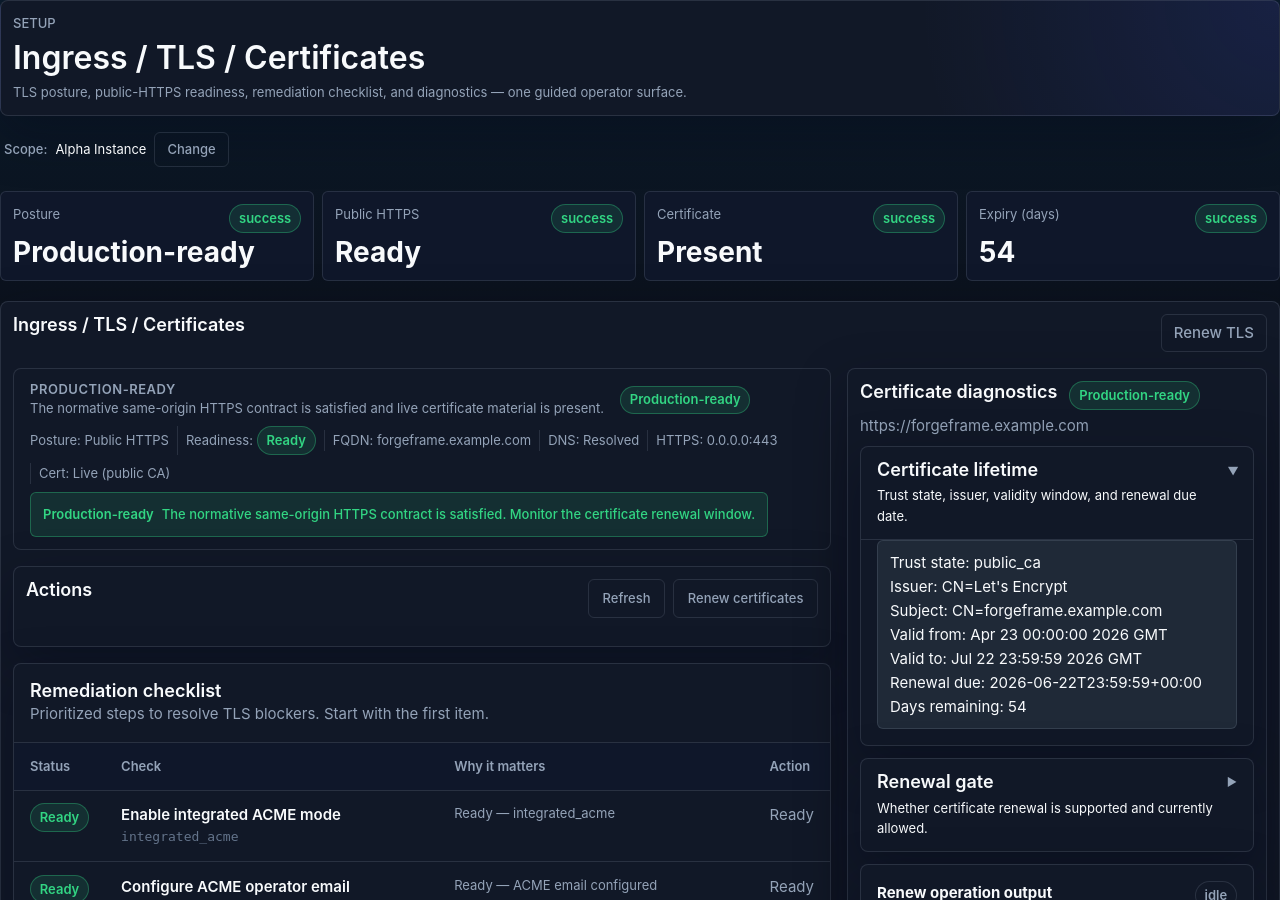
Test case: ingress and tls page › runs renew when the ingress contract allows it and shows the operation result
Click the button "Renew certificates" at coordinates (746, 598), box [673,579,818,618]
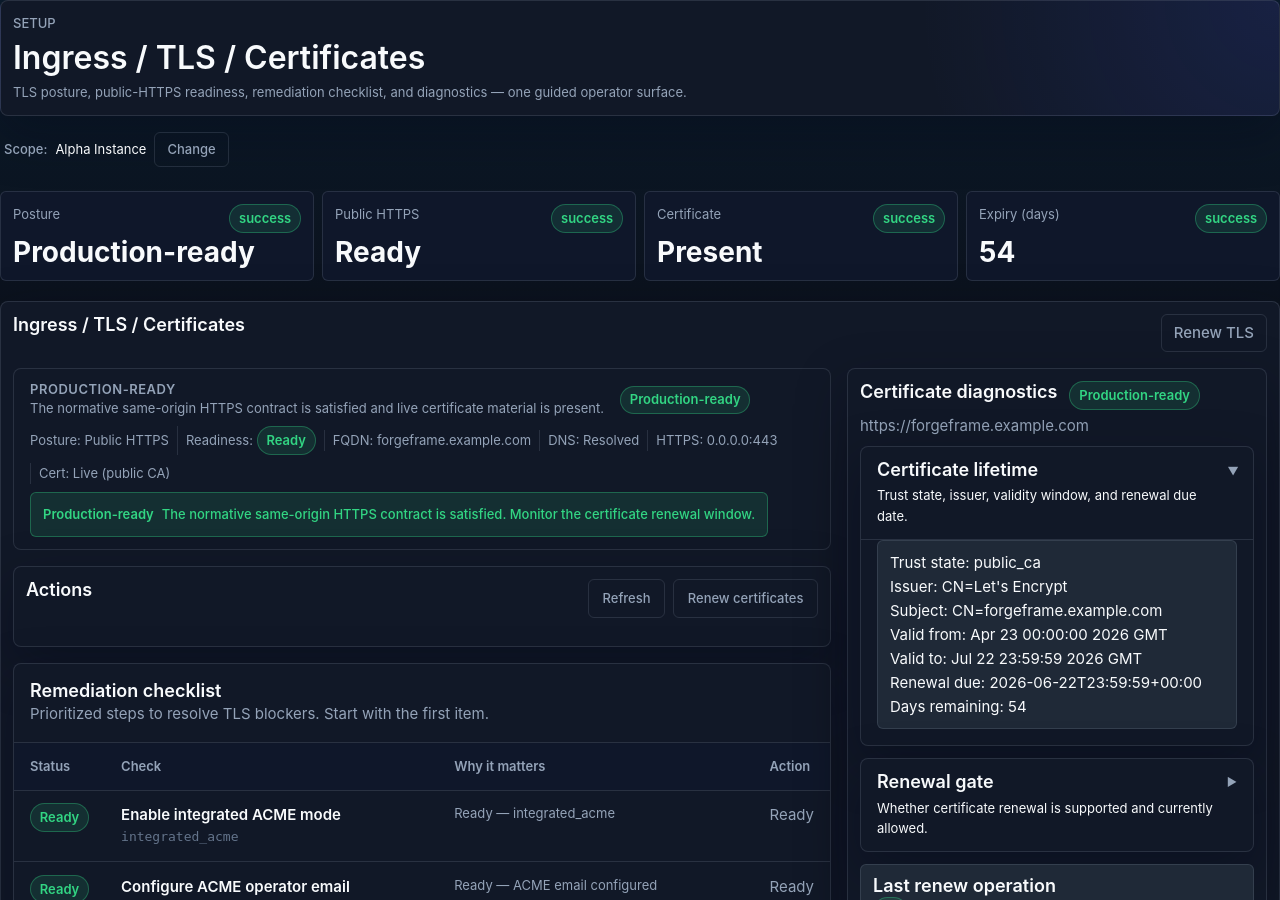
Check: the text "Production-ready" is shown, box [13,235,255,269]
Check: the text "Last renew operation" is shown, box [873,875,1056,896]
